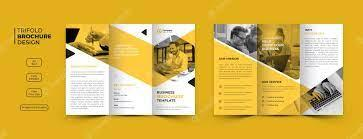paper: (214, 24, 343, 116), (66, 24, 196, 115)
